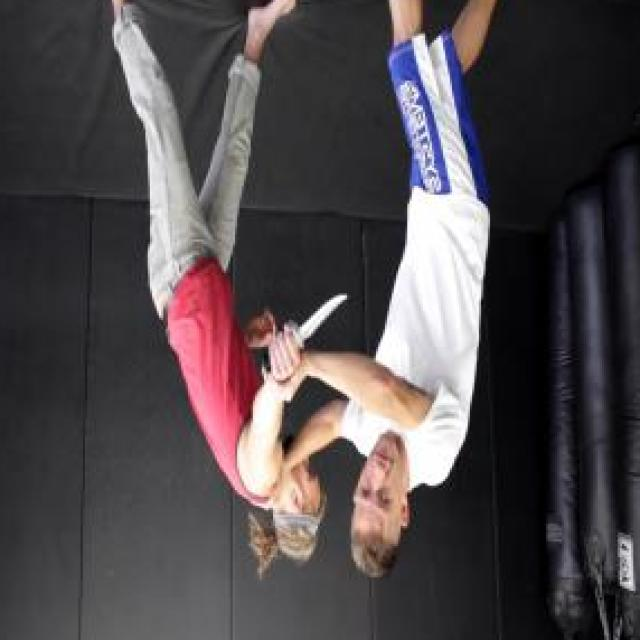knife: (258, 284, 354, 387)
